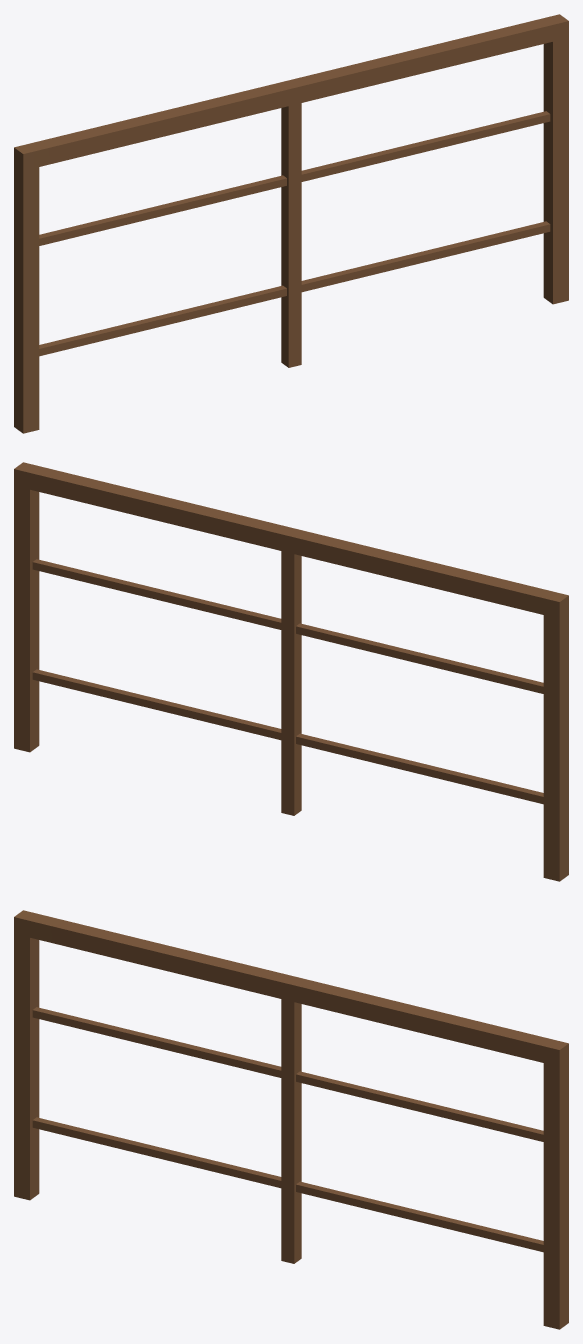
The model's file is DBK_Stairs_Rail_Metal_Short.fbx.
3 views of the same model, one above another, from view 1: azimuth 30°, elevation 25°; view 2: azimuth 150°, elevation 25°; view 3: azimuth 330°, elevation 25° (orthographic).
Parts seen in each view (by area): view 1: DBK_Stairs_Rail_Metal_Short; view 2: DBK_Stairs_Rail_Metal_Short; view 3: DBK_Stairs_Rail_Metal_Short.
Part boxes in pixels (box(x1,y1,x2,y2)): DBK_Stairs_Rail_Metal_Short: box(14, 14, 568, 433); DBK_Stairs_Rail_Metal_Short: box(14, 462, 568, 881); DBK_Stairs_Rail_Metal_Short: box(14, 910, 568, 1329).
Bounding box in the file's own units: 154 × 75.51 × 4.53.
